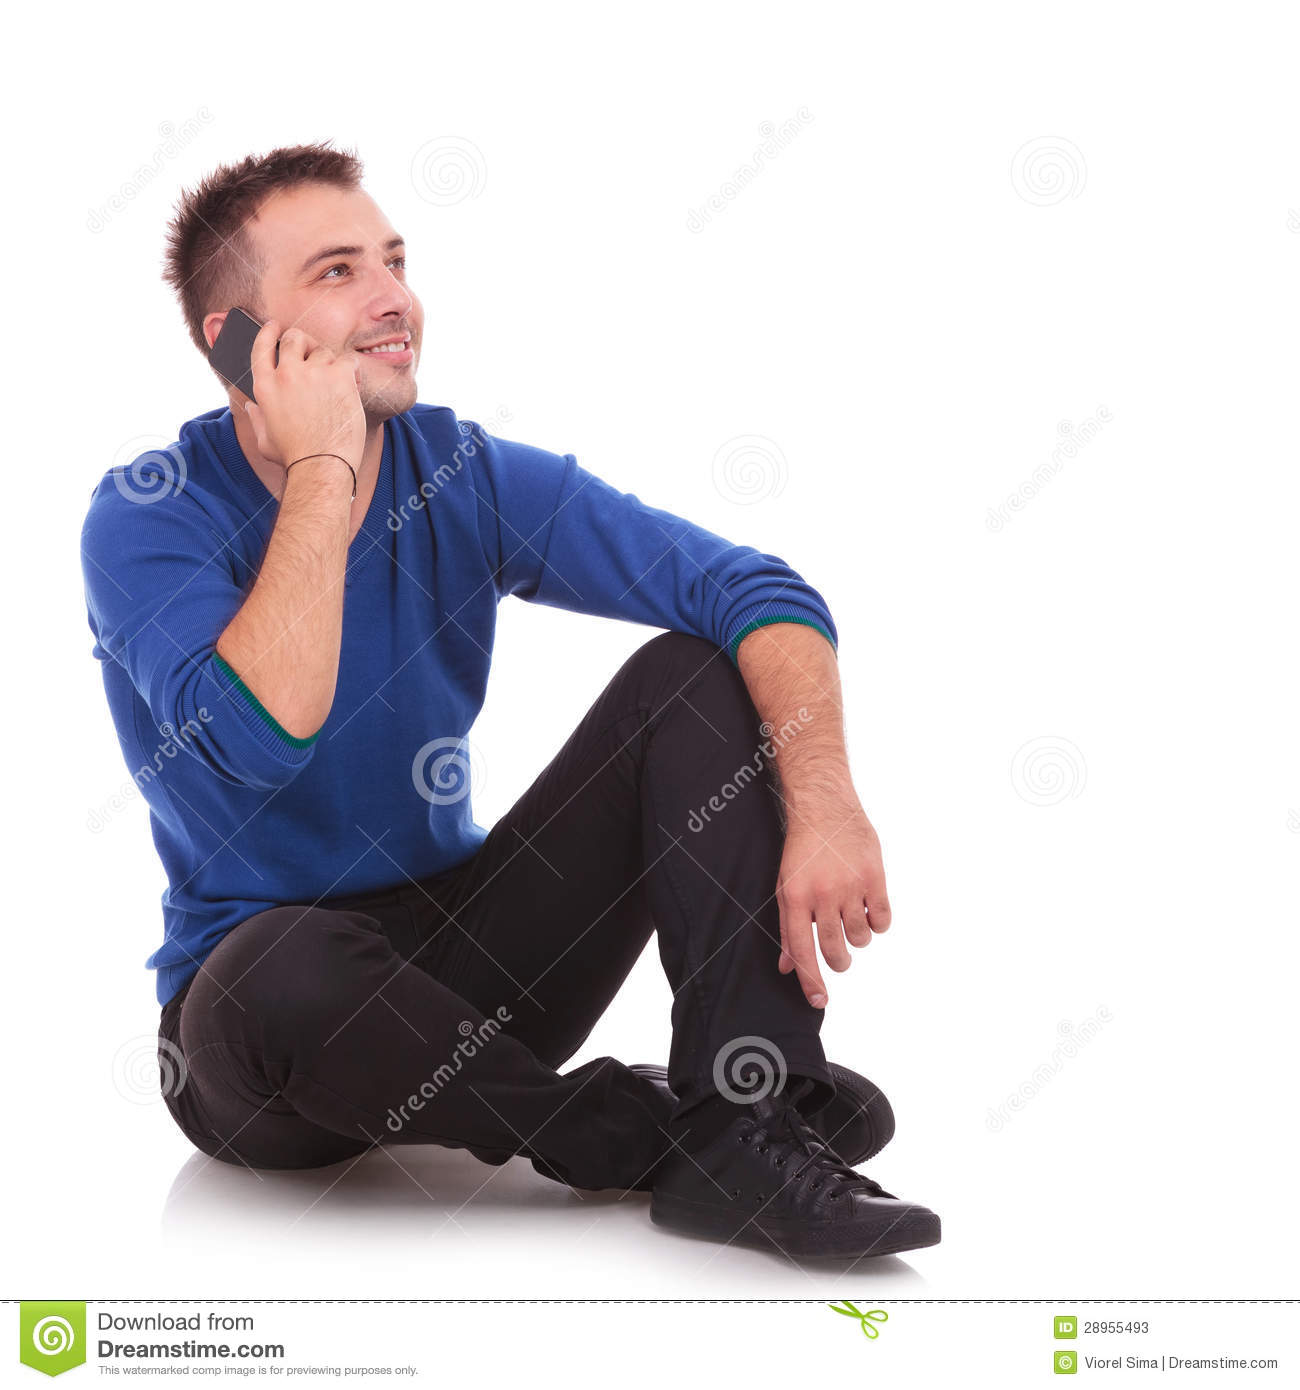phone: (217, 315, 290, 396)
talk: (215, 227, 433, 493)
